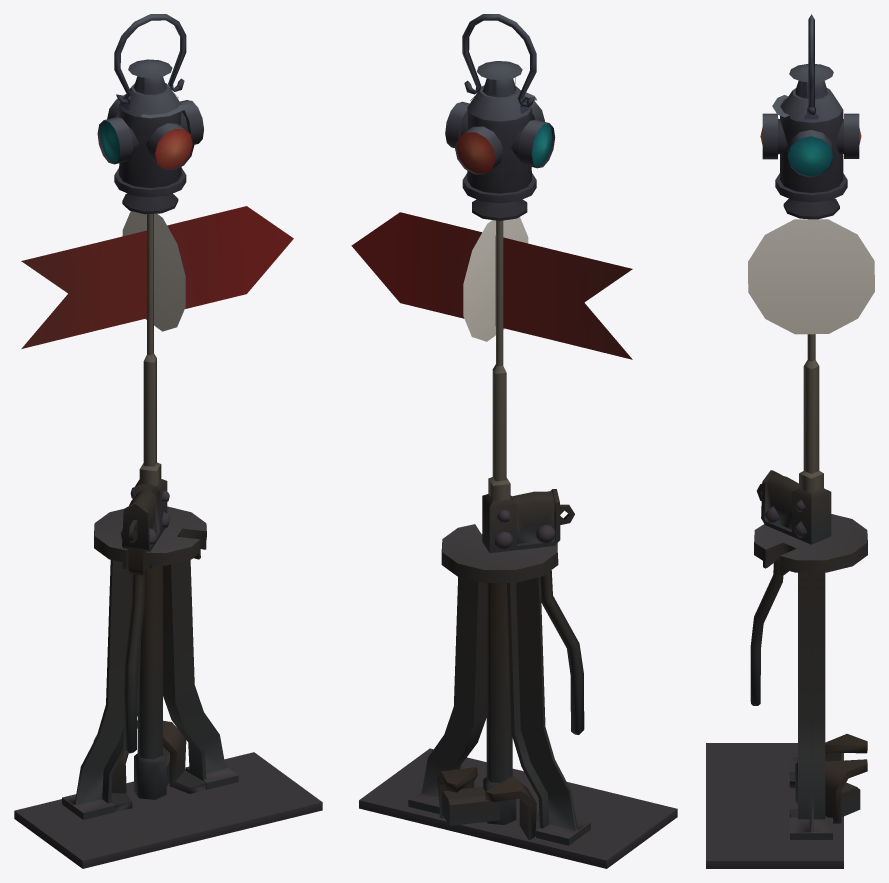
3 renders of one model, left to right at view 1: azimuth 30°, elevation 25°; view 2: azimuth 150°, elevation 25°; view 3: azimuth 270°, elevation 25°, orthographic. The views are drawn at different scales.
Visible parts, largest first — view 1: Arrow_Single_Master_MT; view 2: Arrow_Single_Master_MT; view 3: Arrow_Single_Master_MT.
Boxes of the visible parts, <box> form: Arrow_Single_Master_MT: <box>14,14,322,868</box>; Arrow_Single_Master_MT: <box>351,14,677,868</box>; Arrow_Single_Master_MT: <box>706,14,874,868</box>.
Size of the model in its own units: 1.22 by 3.35 by 0.648.
